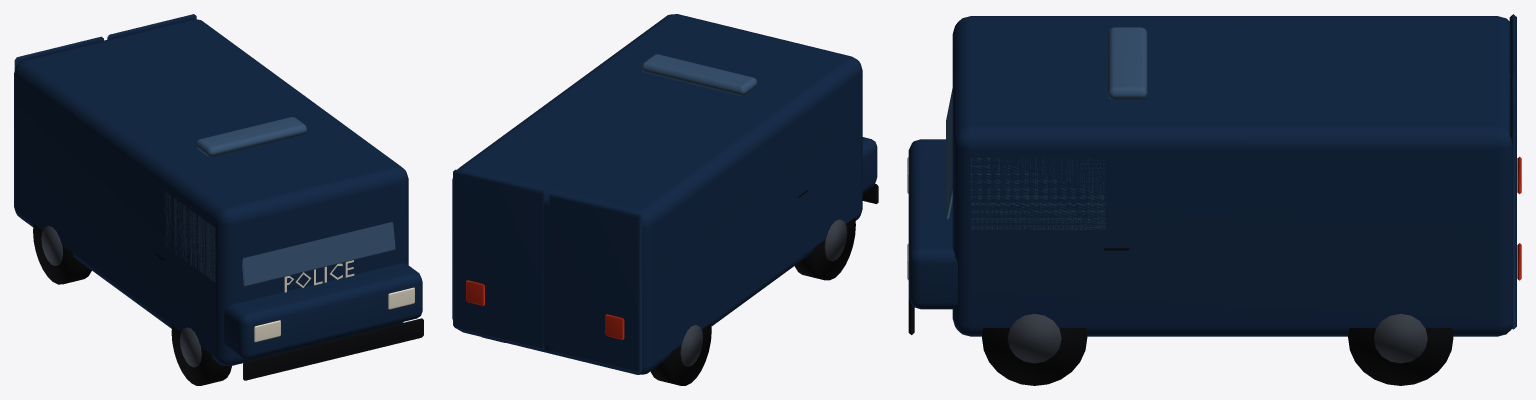
Rendered from police-van.glb.
3 views of the same model, side by side, from view 1: azimuth 30°, elevation 25°; view 2: azimuth 150°, elevation 25°; view 3: azimuth 270°, elevation 25° (orthographic). The views are drawn at different scales.
Parts seen in each view (by area): view 1: police-van; view 2: police-van; view 3: police-van.
Part boxes in pixels (x1,y1,x2,y2): police-van: (14, 14, 423, 385); police-van: (452, 14, 878, 385); police-van: (907, 14, 1521, 385).
Bounding box in the file's own units: 2.4 × 2.4 × 5.
1 material, 1 textured.
